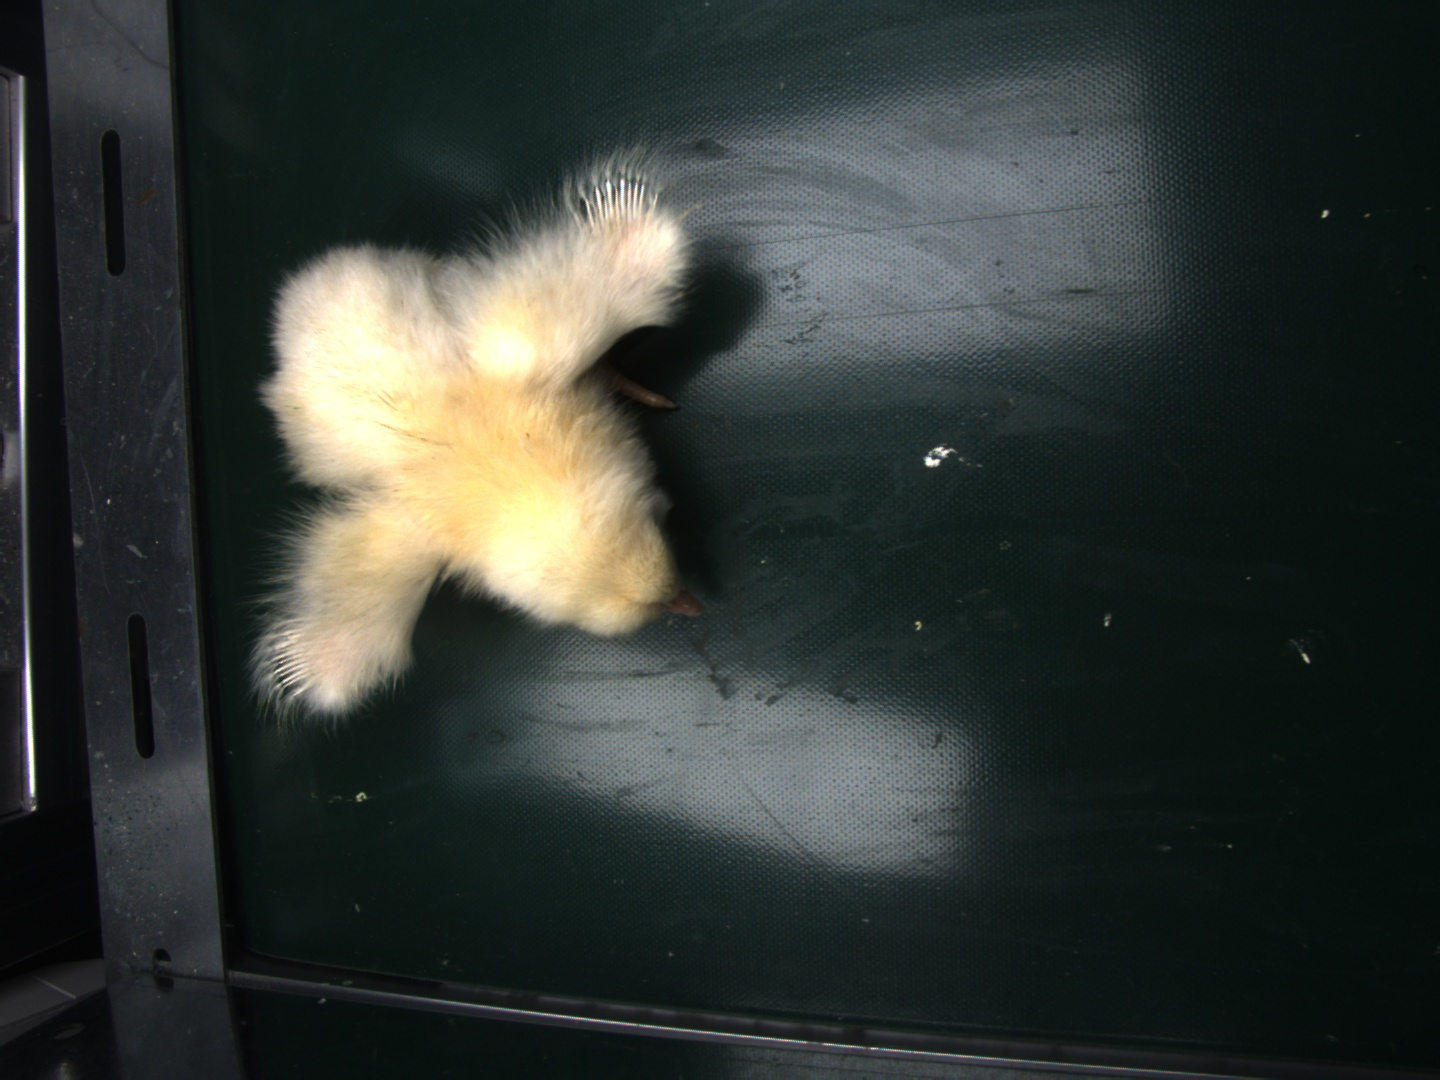male: (579, 172, 661, 237), (264, 622, 324, 697)
